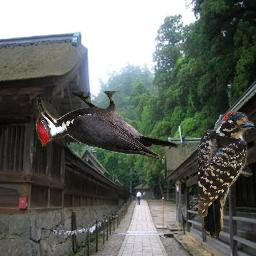Woodpecker: (36, 91, 178, 160), (198, 110, 254, 241)
